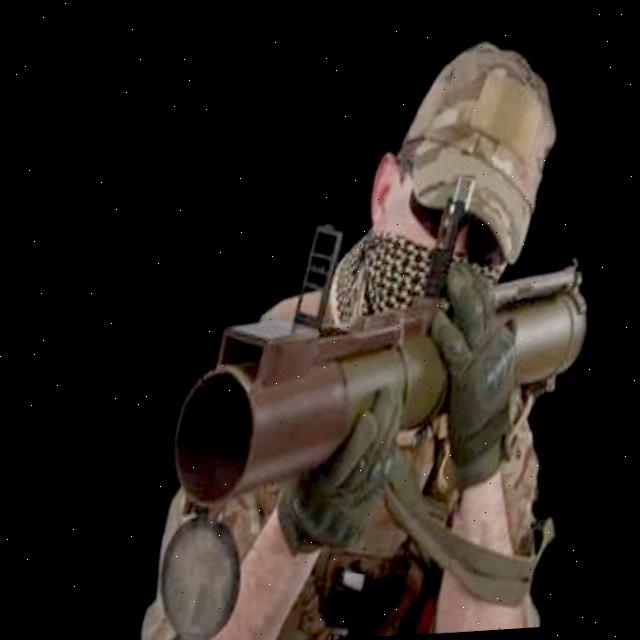rocket: (146, 185, 625, 587)
